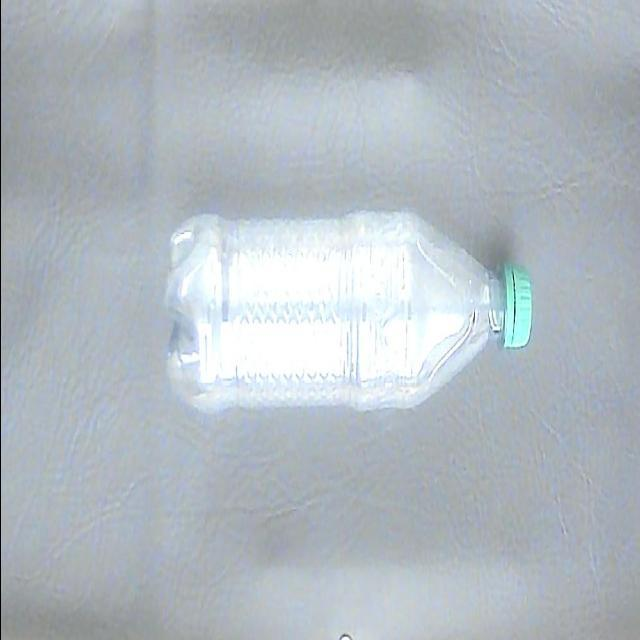good: (162, 202, 534, 422)
